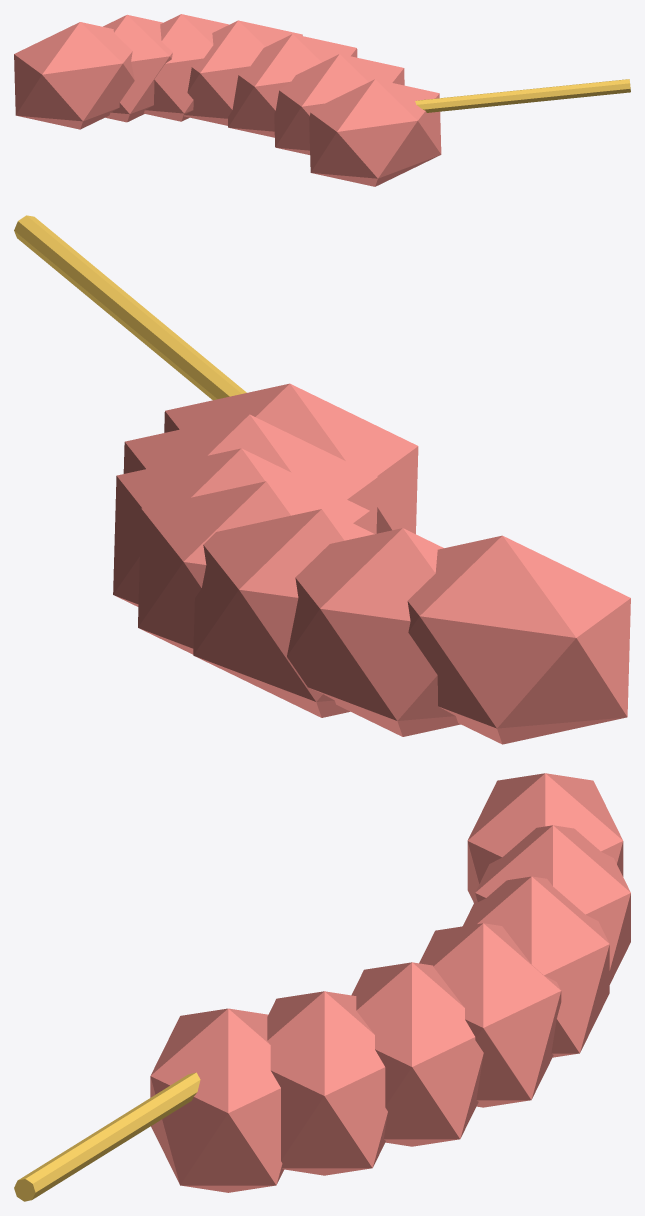
File: bait_shrimp.glb
The picture shows the model from 3 angles, top to bottom: view 1: azimuth 30°, elevation 25°; view 2: azimuth 150°, elevation 25°; view 3: azimuth 270°, elevation 25°; orthographic projection. The views are drawn at different scales.
Visible parts, largest first — view 1: bait_shrimp; view 2: bait_shrimp; view 3: bait_shrimp.
Part boxes in pixels (x1=…): bait_shrimp: x1=14, y1=14, x2=630, y2=186; bait_shrimp: x1=14, y1=215, x2=630, y2=744; bait_shrimp: x1=14, y1=773, x2=630, y2=1201.
Bounding box in the file's own units: 0.4518 × 0.136 × 0.3032.
